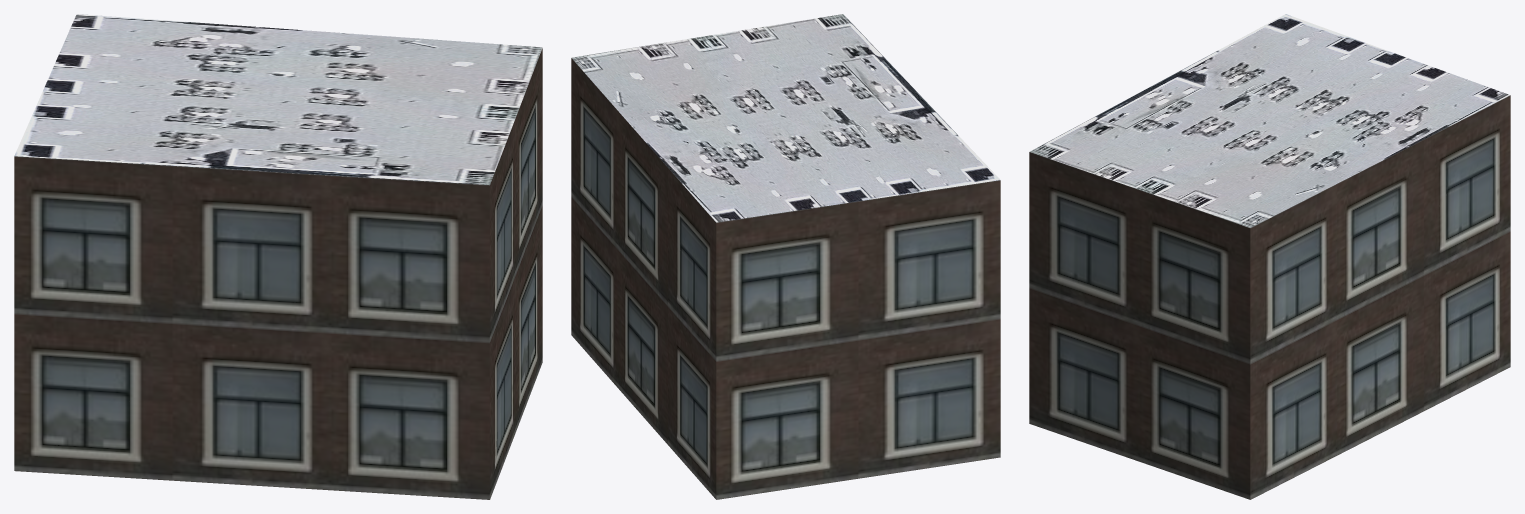
File: ResTex__1626.fbx
3 renders of one model, left to right at view 1: azimuth 30°, elevation 25°; view 2: azimuth 150°, elevation 25°; view 3: azimuth 270°, elevation 25°, orthographic. The views are drawn at different scales.
Parts seen in each view (by area): view 1: CityEngineMaterial_16_m, CityEngineMaterial_15_m; view 2: CityEngineMaterial_16_m, CityEngineMaterial_15_m; view 3: CityEngineMaterial_16_m, CityEngineMaterial_15_m.
Boxes of the visible parts, x1,y1,x2,y2 form: CityEngineMaterial_16_m: (14,48,542,499); CityEngineMaterial_15_m: (14,14,542,184); CityEngineMaterial_16_m: (571,58,1000,499); CityEngineMaterial_15_m: (571,14,1000,222); CityEngineMaterial_16_m: (1029,95,1510,499); CityEngineMaterial_15_m: (1029,14,1510,227).
Bounding box in the file's own units: 10.13 × 6 × 9.63.
2 materials, 2 textured.
